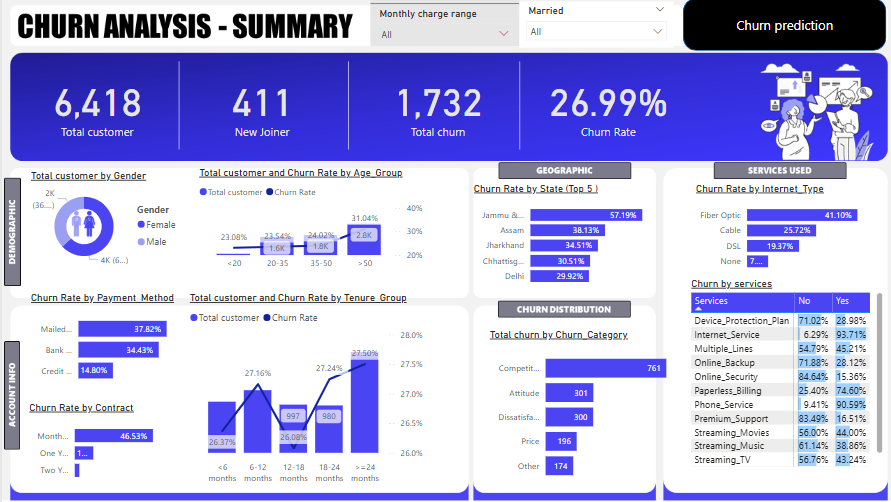

This screenshot's page, from the dashboard's own definition file:
{"tool":"powerbi","page":{"name":"Summary ","canvas":[1280,1000],"ordinal":0},"visuals":[{"type":"card","fields":{"Values":["tbl_Measures.Total customer"]},"box":[36,222,200,132],"z":0},{"type":"card","fields":{"Values":["tbl_Measures.New Joiner"]},"box":[278,222,190,132],"z":1000},{"type":"card","fields":{"Values":["tbl_Measures.Total churn"]},"box":[528,222,194,132],"z":2000},{"type":"card","fields":{"Values":["tbl_Measures.Churn Rate"]},"box":[774,222,186,132],"z":3000},{"type":"donutChart","fields":{"Category":["prod_Churn.Gender"],"Y":["tbl_Measures.Total customer"]},"box":[36,382,228,146],"z":4000},{"type":"lineStackedColumnComboChart","fields":{"Category":["mapping_AgeGroup.Age_Group"],"Y":["tbl_Measures.Total customer"],"Y2":["tbl_Measures.Churn Rate"]},"box":[278,378,330,158],"z":5000},{"type":"clusteredBarChart","fields":{"Category":["prod_Churn.Payment_Method"],"Y":["tbl_Measures.Churn Rate"]},"box":[36,556,242,142],"z":6000},{"type":"clusteredBarChart","fields":{"Y":["tbl_Measures.Churn Rate"],"Category":["prod_Churn.Contract"]},"box":[34,714,230,124],"z":7000},{"type":"lineClusteredColumnComboChart","fields":{"Category":["mapping_TenuringGroup.Custom"],"Y":["tbl_Measures.Total customer"],"Y2":["tbl_Measures.Churn Rate"]},"box":[264,556,344,282],"z":8000},{"type":"clusteredBarChart","title":"Churn Rate by State (Top 5 )","fields":{"Category":["prod_Churn.State"],"Y":["tbl_Measures.Churn Rate"]},"box":[670.6,400,290.2,156.9],"z":9000},{"type":"clusteredBarChart","fields":{"Category":["prod_Churn.Churn_Category"],"Y":["tbl_Measures.Total churn"]},"box":[694,608,288,230],"z":10000},{"type":"clusteredBarChart","fields":{"Category":["prod_Churn.Internet_Type"],"Y":["tbl_Measures.Churn Rate"]},"box":[988,400,292,136],"z":11000},{"type":"pivotTable","title":"Churn by services","fields":{"Rows":["prod_services.Services"],"Columns":["prod_services.status"],"Values":["Sum(prod_services.Churn_status)"]},"box":[982,536,284,276],"z":12000},{"type":"slicer","fields":{"Values":["prod_services.Monthly charge status "]},"box":[527.5,139.2,292.2,64.7],"z":13000},{"type":"slicer","fields":{"Values":["prod_services.Married"]},"box":[839.2,139.2,294.1,64.7],"z":14000},{"type":"image","box":[84,430,66,58],"z":15000}]}

Visuals, with their boxes on the page's 1280x1000 design canvas (x1, y1, x2, y2). These are canvas units, not pixel positions in the 891x502 screenshot, which may show the page scaled, cropped or inside an application window:
card - tbl_Measures.Total customer: 36 222 236 354
card - tbl_Measures.New Joiner: 278 222 468 354
card - tbl_Measures.Total churn: 528 222 722 354
card - tbl_Measures.Churn Rate: 774 222 960 354
donutChart - prod_Churn.Gender x tbl_Measures.Total customer: 36 382 264 528
lineStackedColumnComboChart - mapping_AgeGroup.Age_Group x tbl_Measures.Total customer: 278 378 608 536
clusteredBarChart - prod_Churn.Payment_Method x tbl_Measures.Churn Rate: 36 556 278 698
clusteredBarChart - tbl_Measures.Churn Rate x prod_Churn.Contract: 34 714 264 838
lineClusteredColumnComboChart - mapping_TenuringGroup.Custom x tbl_Measures.Total customer: 264 556 608 838
"Churn Rate by State (Top 5 )" clusteredBarChart: 671 400 961 557
clusteredBarChart - prod_Churn.Churn_Category x tbl_Measures.Total churn: 694 608 982 838
clusteredBarChart - prod_Churn.Internet_Type x tbl_Measures.Churn Rate: 988 400 1280 536
"Churn by services" pivotTable: 982 536 1266 812
slicer - prod_services.Monthly charge status : 528 139 820 204
slicer - prod_services.Married: 839 139 1133 204
image: 84 430 150 488
